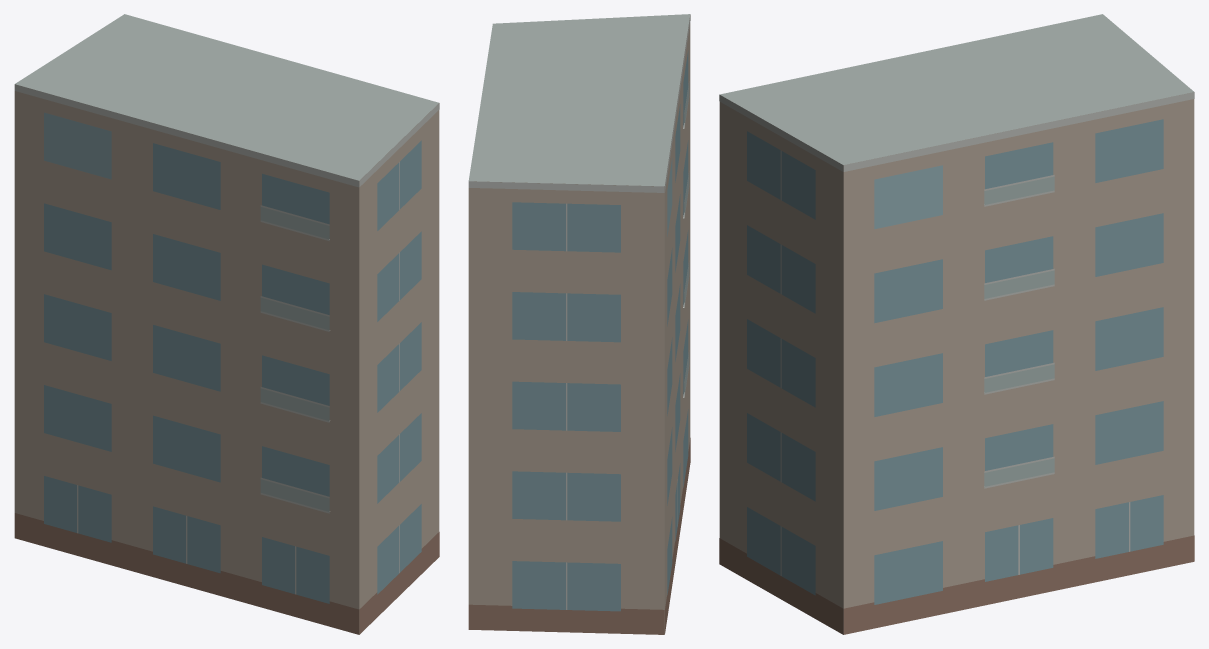
Rendered from survey-upis-32514884.glb.
The picture shows the model from 3 angles, left to right: view 1: azimuth 30°, elevation 25°; view 2: azimuth 150°, elevation 25°; view 3: azimuth 270°, elevation 25°; orthographic projection. The views are drawn at different scales.
Parts seen in each view (by area): view 1: survey-upis-32514884.tmp; view 2: survey-upis-32514884.tmp; view 3: survey-upis-32514884.tmp.
Boxes of the visible parts, left/top/right/bottom form: survey-upis-32514884.tmp: left=14, top=14, right=439, bottom=634; survey-upis-32514884.tmp: left=468, top=14, right=690, bottom=634; survey-upis-32514884.tmp: left=719, top=14, right=1194, bottom=634.
Size of the model in its own units: 11.41 by 16.52 by 15.15.
